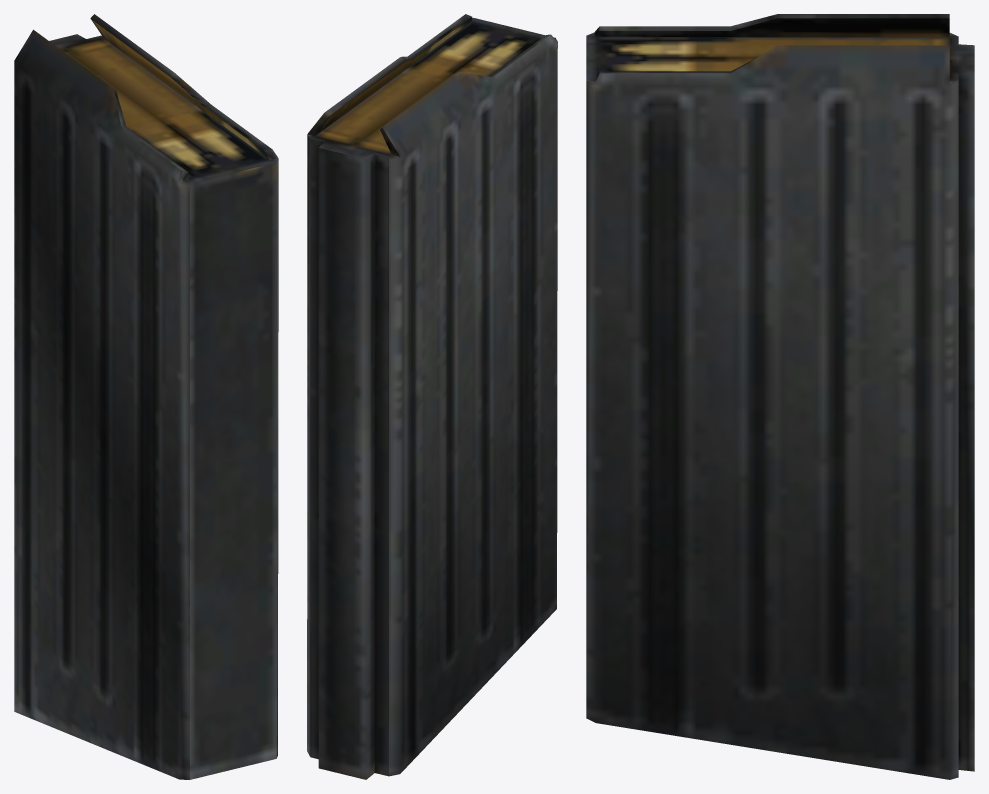
File: Assault_Rifle_bq_dj_02_Magazine_Main_(000272).glb
The picture shows the model from 3 angles, left to right: view 1: azimuth 30°, elevation 25°; view 2: azimuth 150°, elevation 25°; view 3: azimuth 270°, elevation 25°; orthographic projection. The views are drawn at different scales.
Visible parts, largest first — view 1: bq_dj_02; view 2: bq_dj_02; view 3: bq_dj_02.
Part boxes in pixels (left/top/right/bottom): bq_dj_02: left=14, top=14, right=278, bottom=779; bq_dj_02: left=307, top=14, right=557, bottom=779; bq_dj_02: left=586, top=14, right=974, bottom=779.
Size of the model in its own units: 0.0279 by 0.1853 by 0.0894.
1 material, 1 textured.
